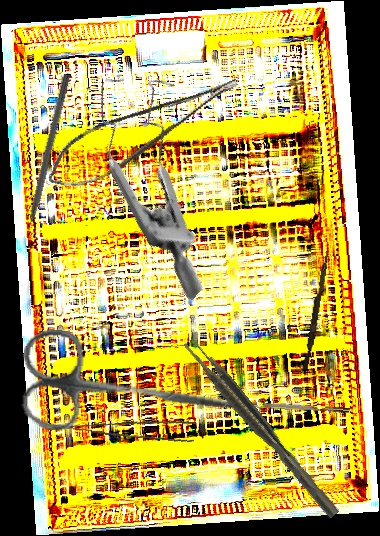Chopper: (221, 399, 350, 419)
Iris Scissors: (14, 326, 258, 454)
Micro Scissor: (36, 71, 253, 199)
Pusher: (18, 73, 72, 247), (302, 250, 330, 370)
Speculum: (32, 48, 292, 302)
Tissue Forceps: (181, 334, 340, 524), (52, 400, 197, 450)
